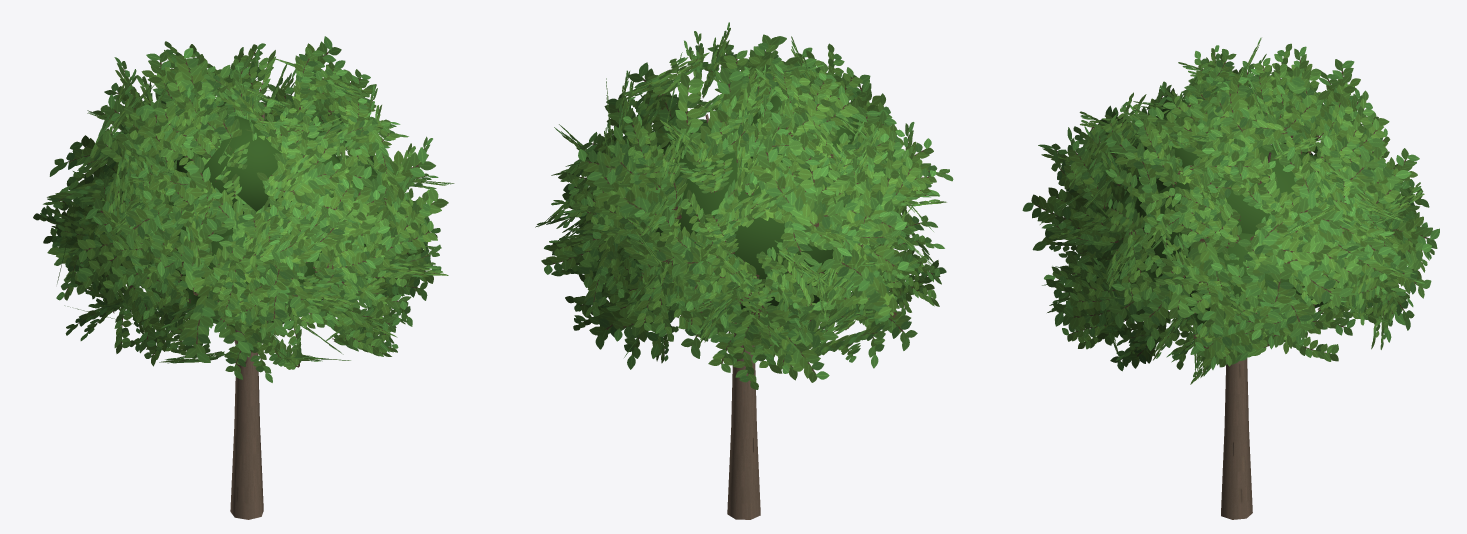
The model's file is GEN_FOLHOSA_1.glb.
The picture shows the model from 3 angles, left to right: view 1: azimuth 30°, elevation 25°; view 2: azimuth 150°, elevation 25°; view 3: azimuth 270°, elevation 25°; orthographic projection. The views are drawn at different scales.
Visible parts, largest first — view 1: Arv_GEN_FOLHOSA_lod1; view 2: Arv_GEN_FOLHOSA_lod1; view 3: Arv_GEN_FOLHOSA_lod1.
Part boxes in pixels (x1,y1,x2,y2): Arv_GEN_FOLHOSA_lod1: [33, 36, 454, 519]; Arv_GEN_FOLHOSA_lod1: [535, 22, 953, 519]; Arv_GEN_FOLHOSA_lod1: [1022, 37, 1439, 519].
Bounding box in the file's own units: 9.52 × 10.71 × 9.46.
3 materials, 2 textured.
